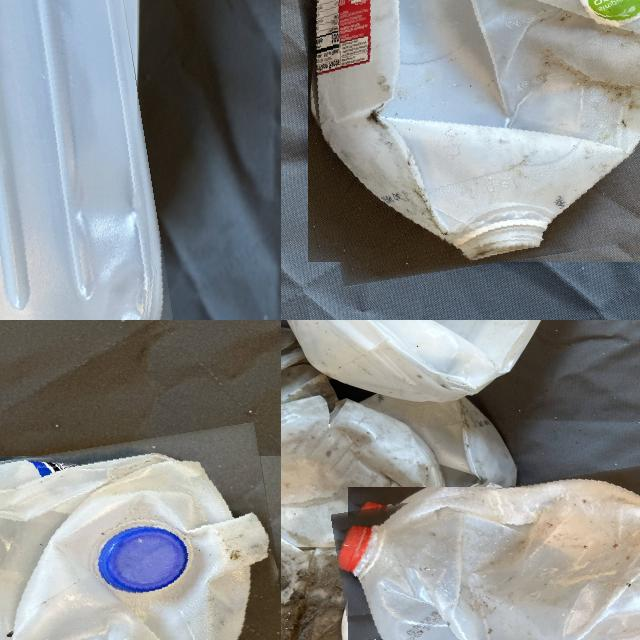milk-jug: (292, 0, 640, 275), (0, 439, 281, 640), (0, 0, 158, 320), (339, 475, 640, 640), (281, 403, 442, 640), (286, 320, 590, 396)
